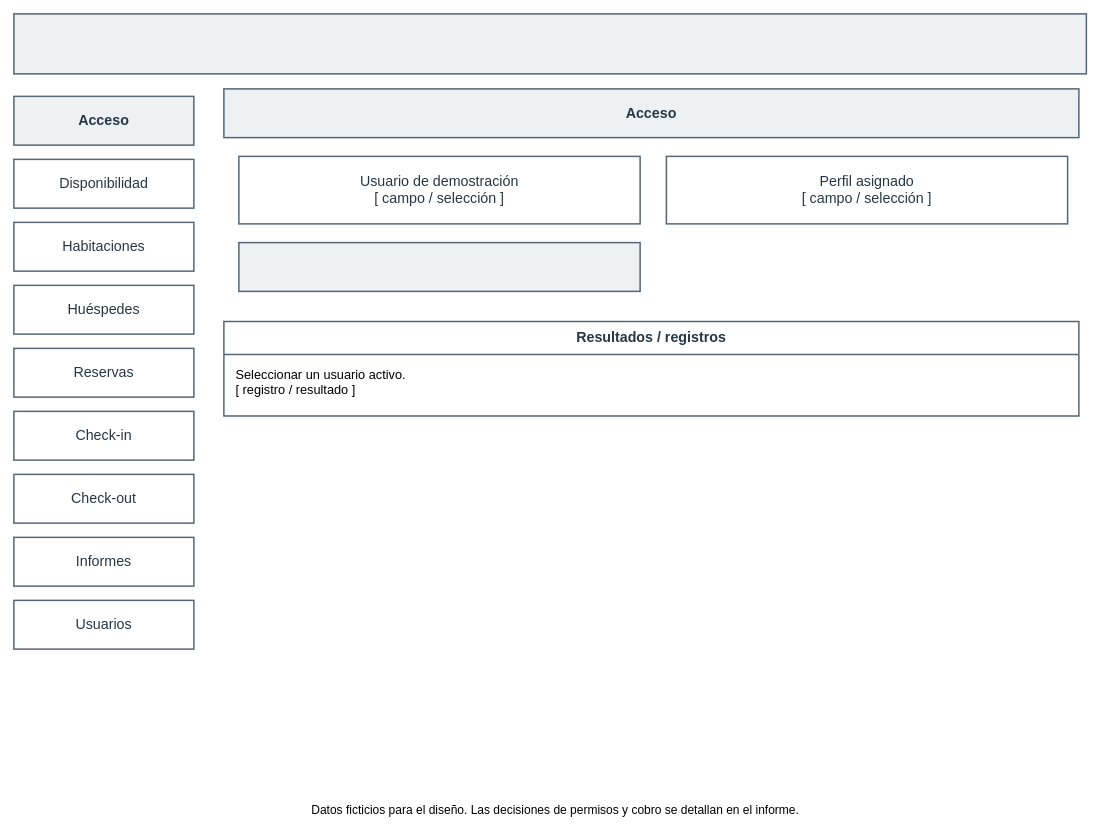
The diagram is 1100 pixels wide and 836 high, and some of its shapes have lost their labels. The shapes that lost their labels are listed below. From the top down, each one's centre as x and y in pixels, then its label:
the point at 550,43: Hotel Duerme Bien · Sistema de pasajeros
the point at 439,267: Entrar
